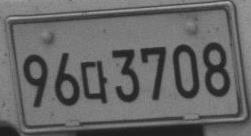0: (172, 43, 200, 98)
3: (111, 49, 139, 103)
6: (53, 52, 79, 107)
7: (140, 45, 167, 101)
8: (202, 41, 231, 97)
9: (22, 53, 48, 108)
다: (80, 59, 108, 104)
